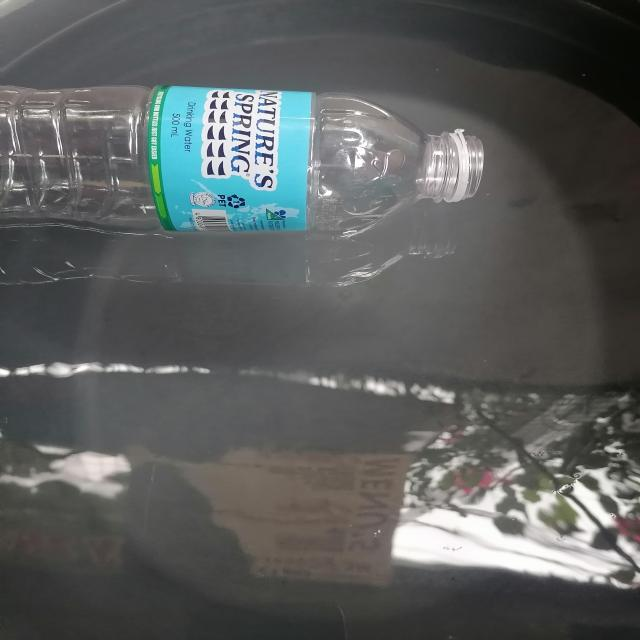Plastic Bottle: (0, 86, 484, 237)
